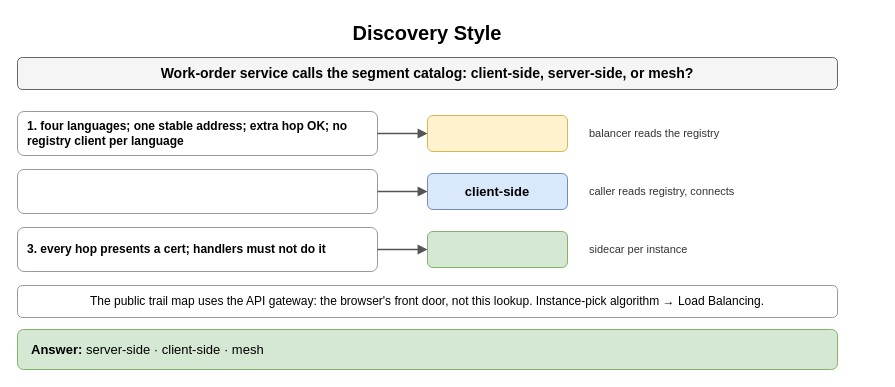
Image size: 895x387. Some labels were removed from this diagram. The centre of each missing label's shape, as x and y in pixels:
"2. one language you ship; no proxy in the path" goes at [197,191].
"mesh" goes at [497,249].
"server-side" goes at [497,133].
